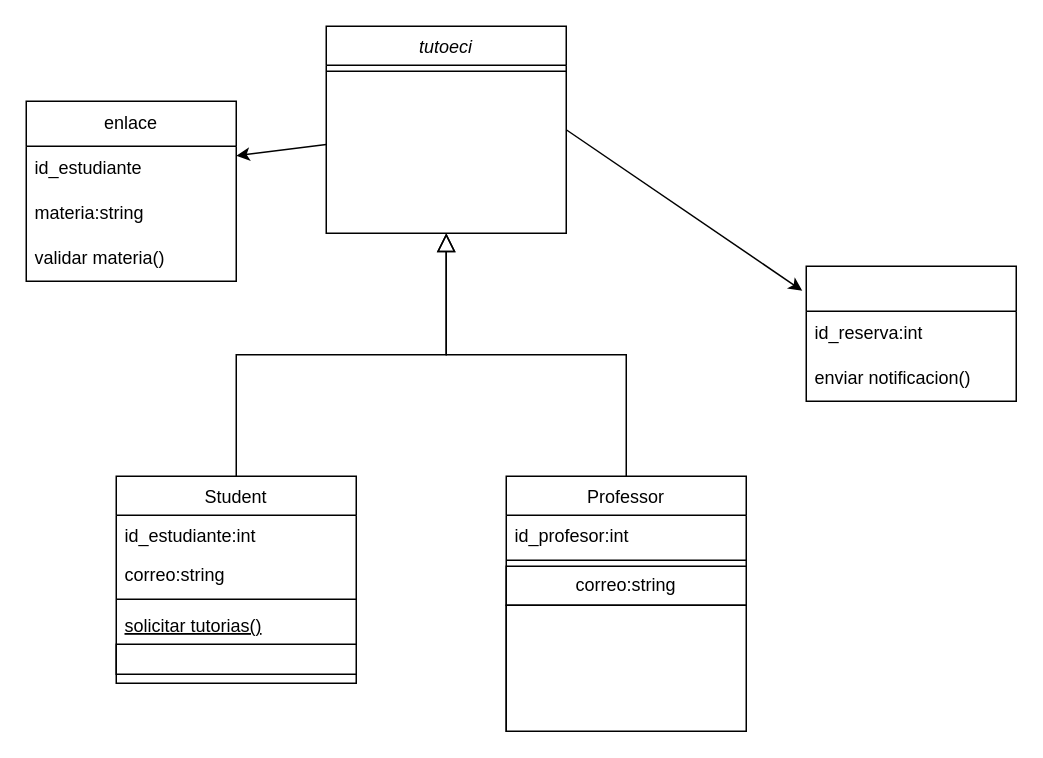
This 1043x758 diagram has some shape labels left out. Here are the shapes that lost their labels. From the top down, the box of each, then its label:
(805, 265, 1016, 401): notifyme
(115, 643, 356, 674): recibir notificacion(notifyme)
(505, 604, 746, 731): confirmar tutorias() recibir notificacion(notifyme)
